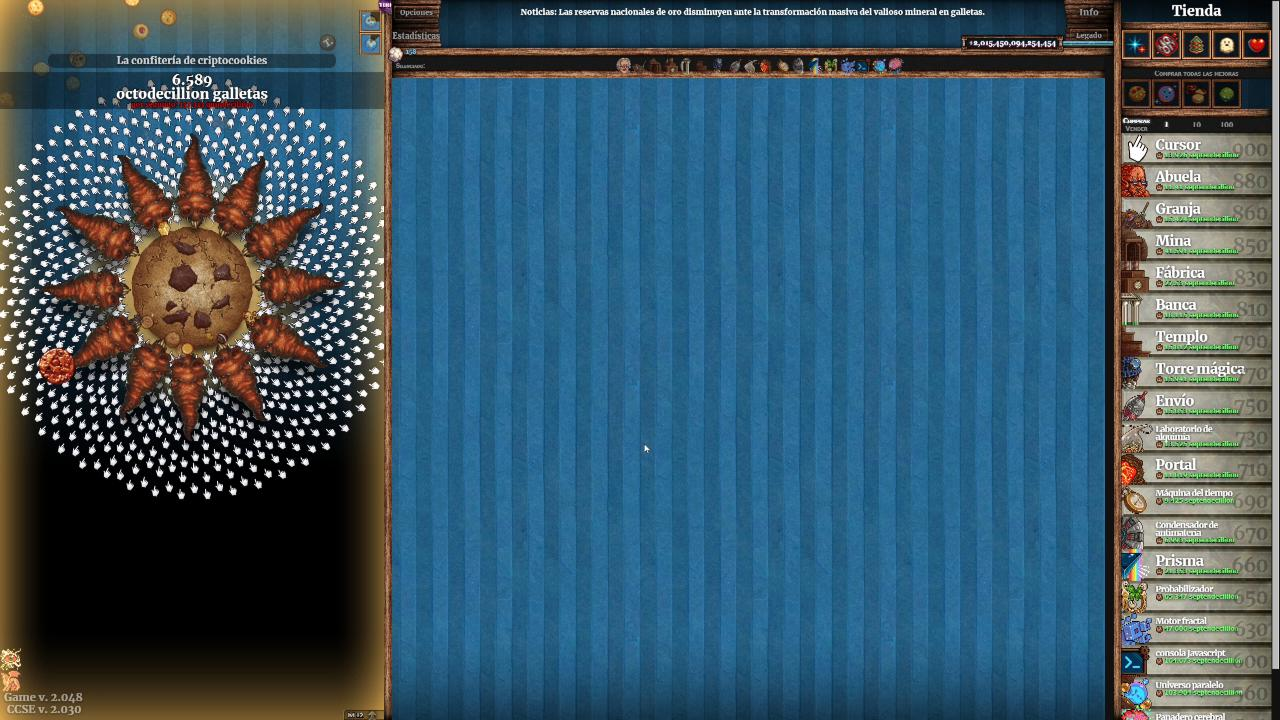RedCookie: (38, 347, 76, 386)
